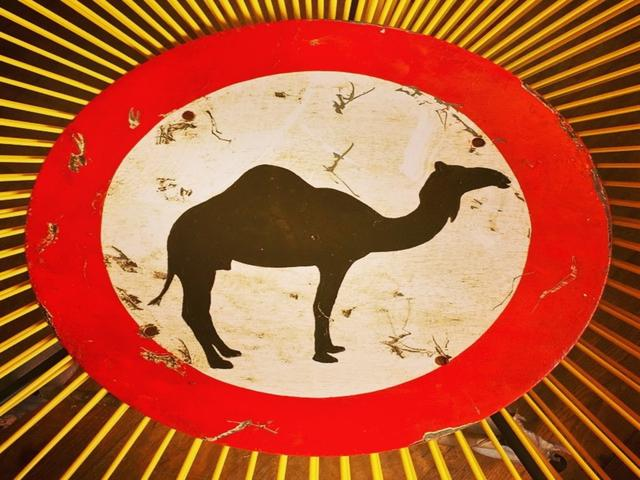camel: (109, 122, 517, 412)
